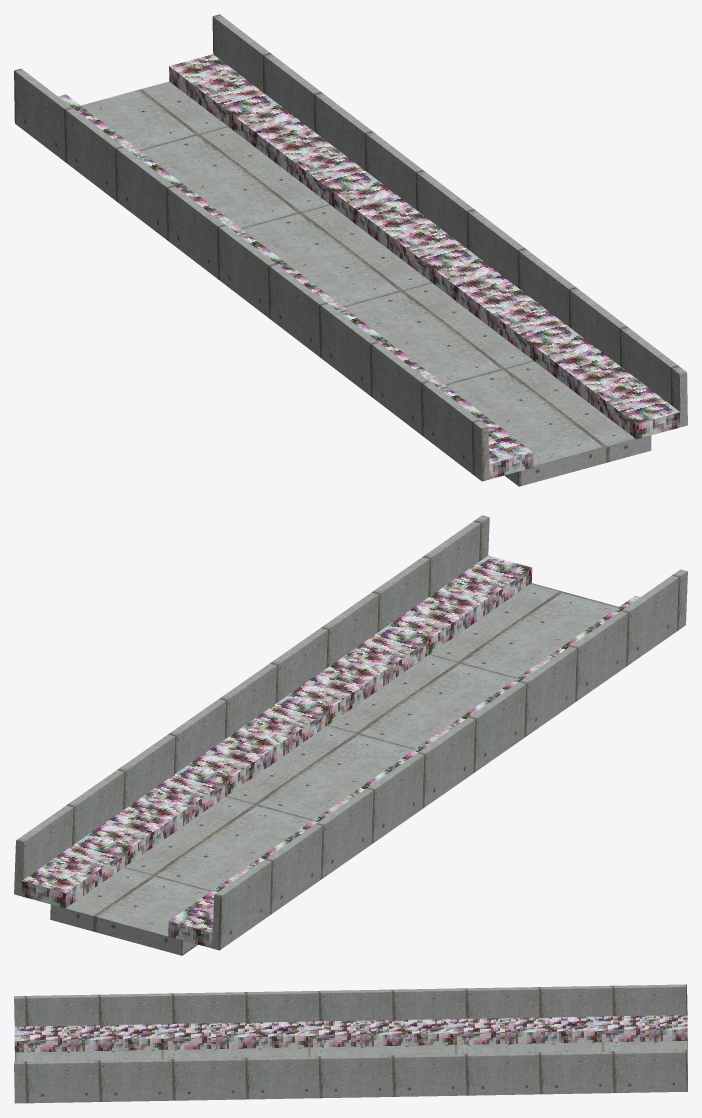
File: GMLID_BUI205585_1385_1373.dae
3 renders of one model, top to bottom at view 1: azimuth 30°, elevation 25°; view 2: azimuth 150°, elevation 25°; view 3: azimuth 270°, elevation 25°, orthographic. The views are drawn at different scales.
Bounding box in the file's own units: 8.46 × 33.05 × 3.52.
Materials: 2 (2 with a texture image).
